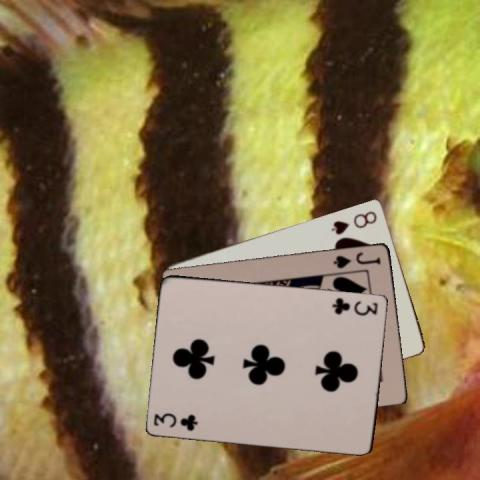3c: (152, 410, 199, 433), (330, 294, 379, 316)
8s: (328, 207, 379, 236)
Js: (330, 249, 382, 269)
